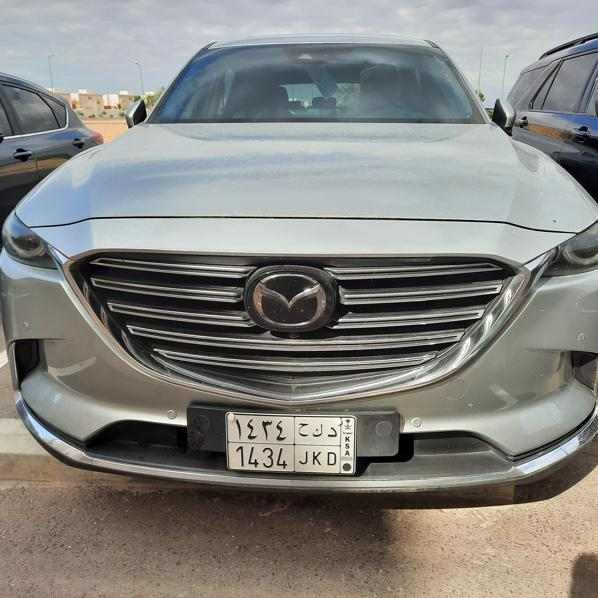numberplate: (226, 413, 356, 473)
